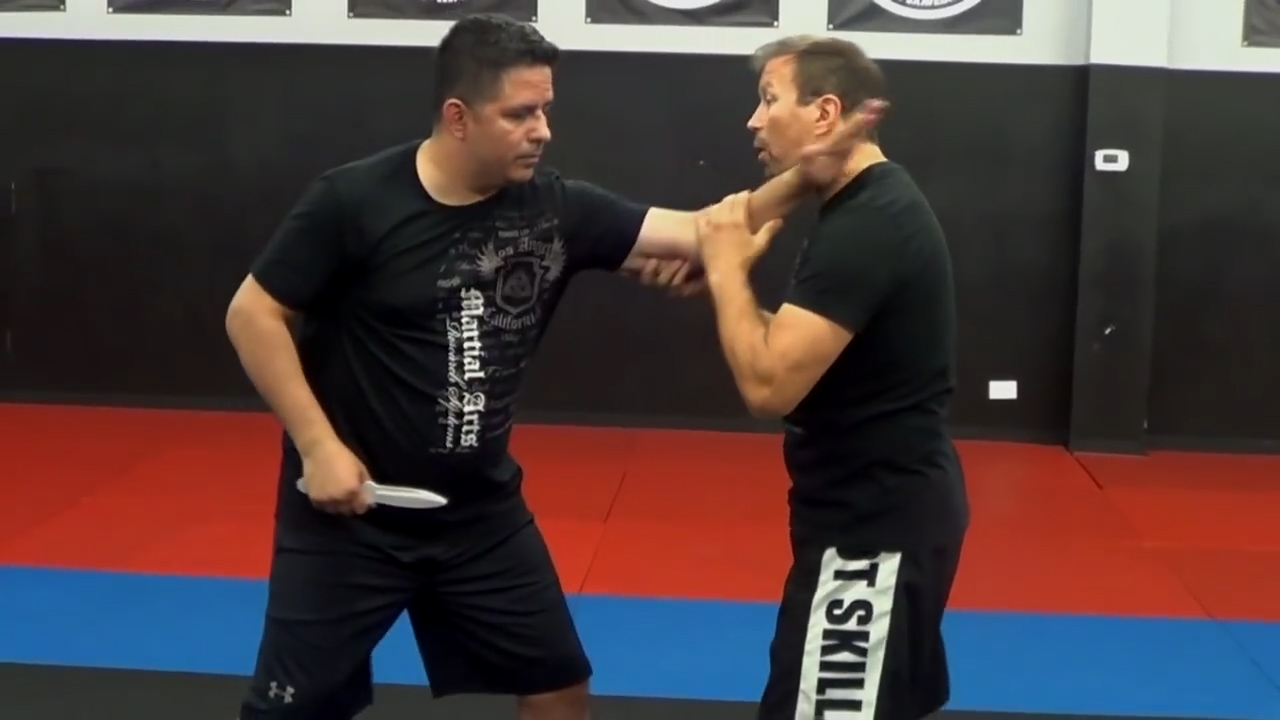knife: (292, 470, 454, 516)
